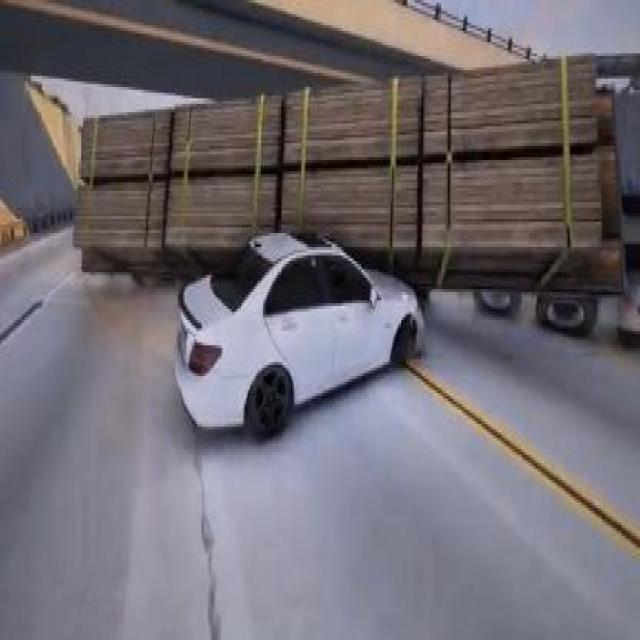accident: (63, 31, 639, 441)
